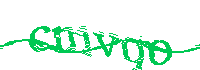c: (28, 23, 52, 54)
m: (52, 23, 92, 59)
o: (147, 38, 173, 65)
q: (121, 36, 144, 70)
v: (94, 30, 117, 58)
